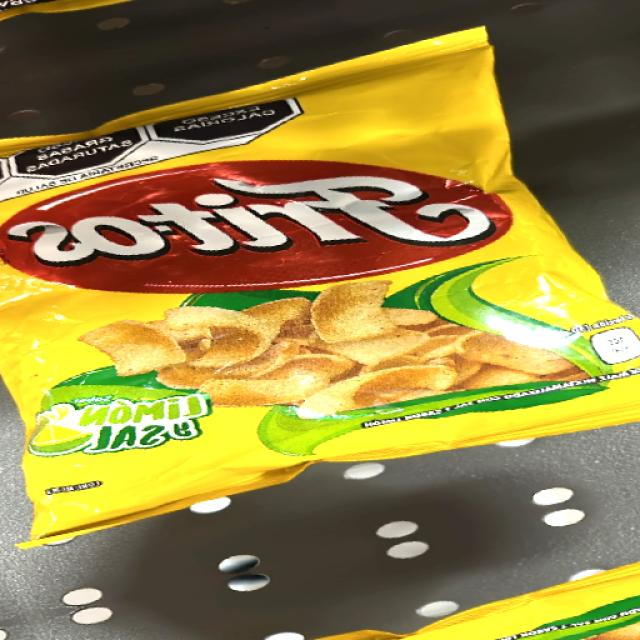fritosLimon: (0, 148, 618, 430)
